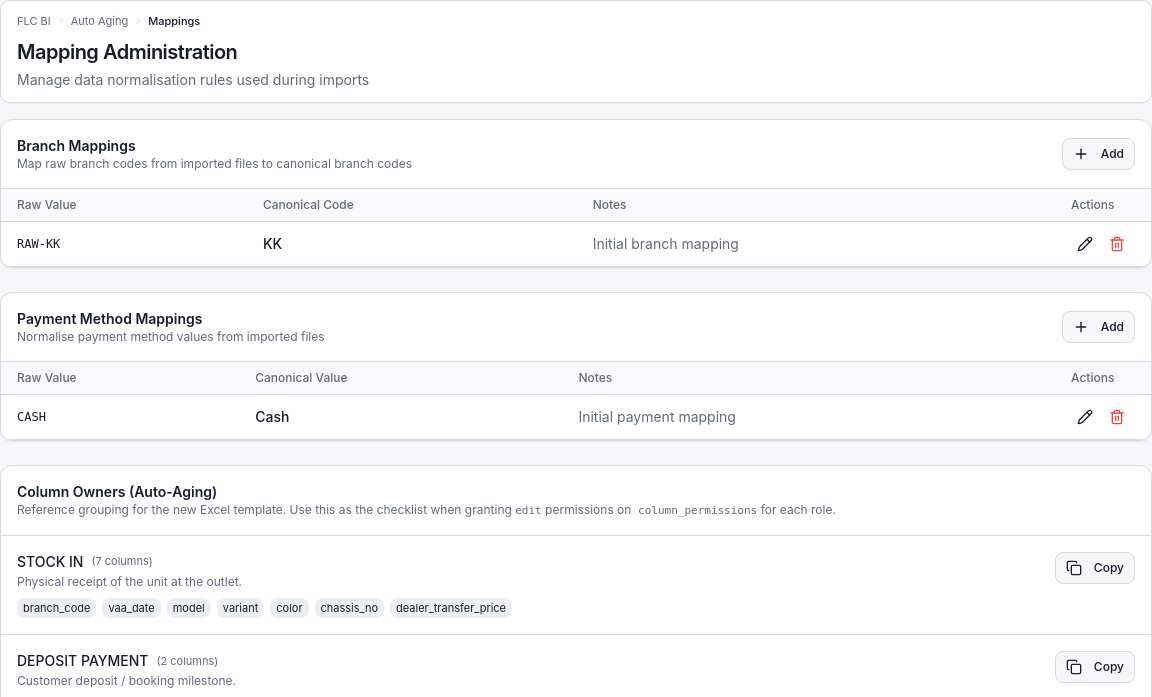
it: MappingAdmin › creates a new branch mapping and reloads the table
Expected: the text "RAW-KK" is shown, top-left (1, 221), bottom-right (247, 266)
Click the button "Add" in the row of "Branch Mappings". click: (1098, 154)
box: top-left (1062, 138), bottom-right (1135, 170)
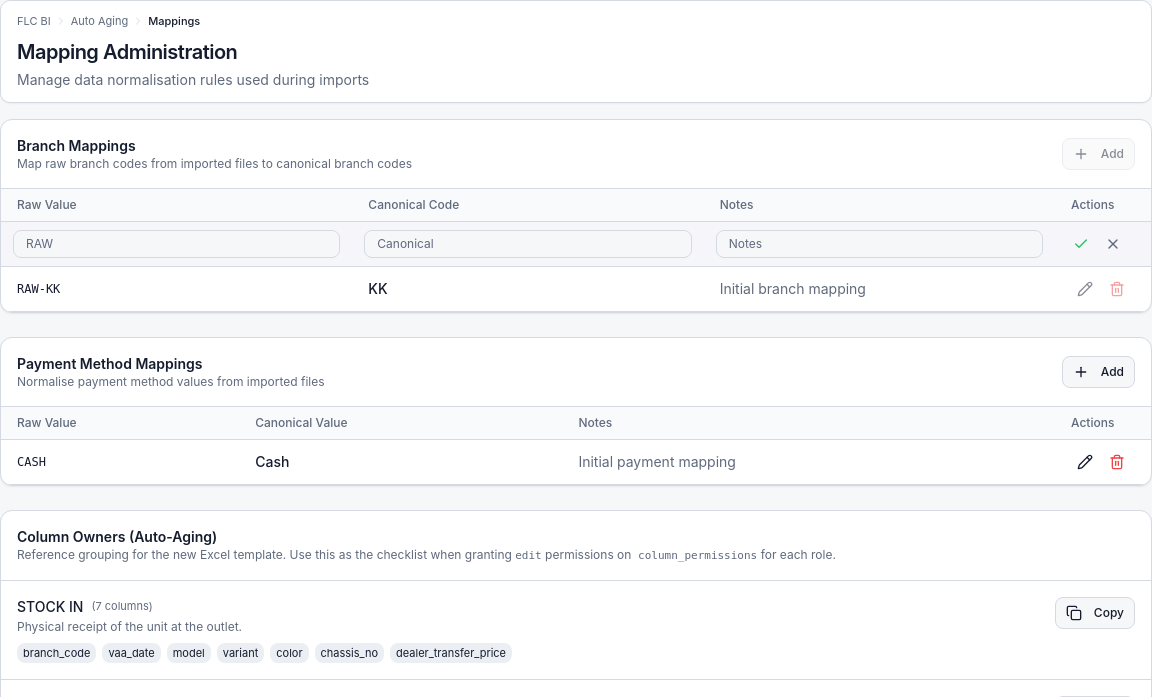
Type "RAW-JB" into the field with placeholder "RAW". click: (177, 244)
box: top-left (13, 230), bottom-right (340, 258)
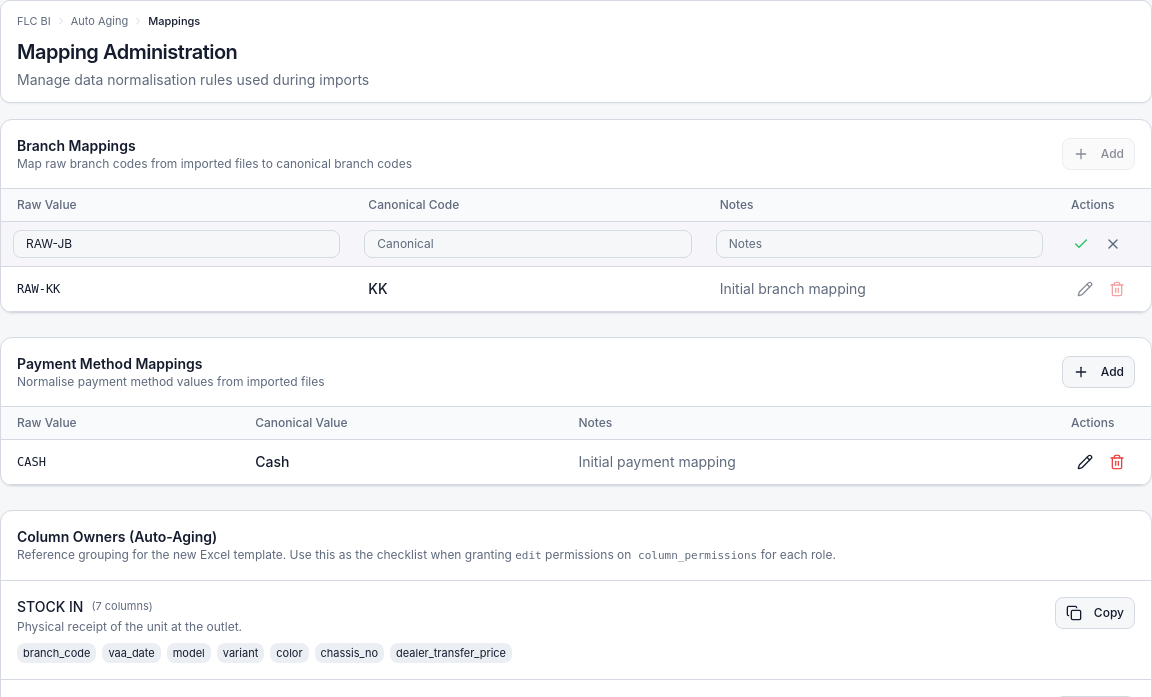
Type "JB" into the field with placeholder "Canonical". click: (528, 244)
box: top-left (364, 230), bottom-right (692, 258)
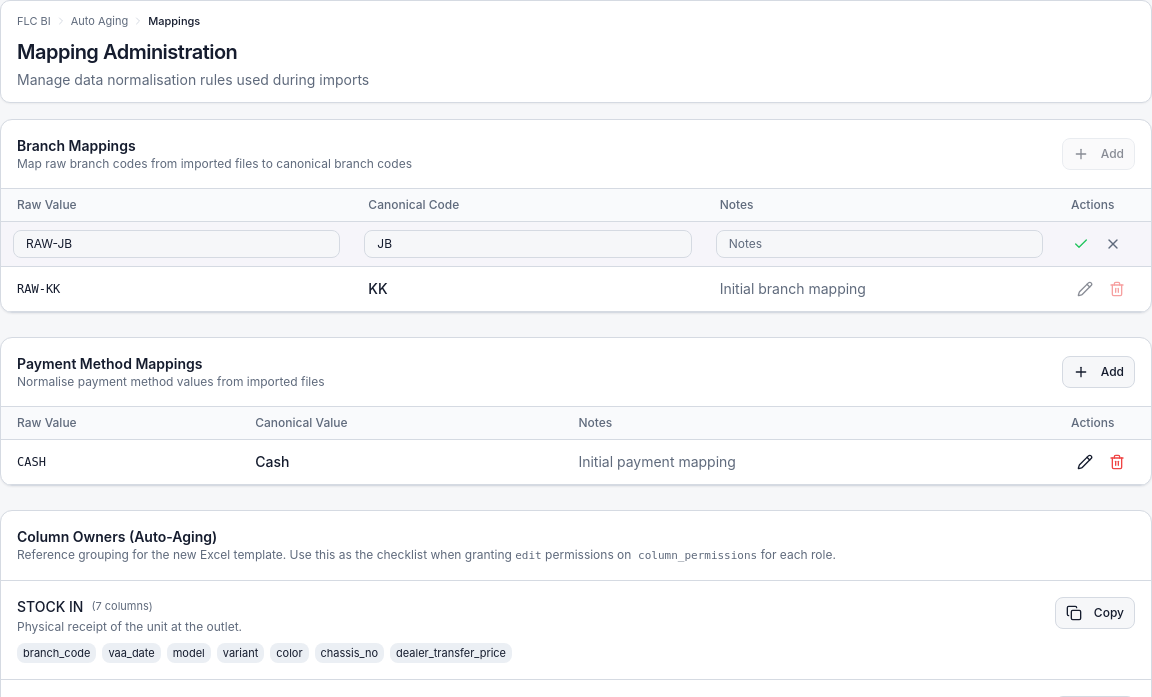
Type "Johor branch" into the field with placeholder "Notes". click: (879, 244)
box: top-left (716, 230), bottom-right (1043, 258)
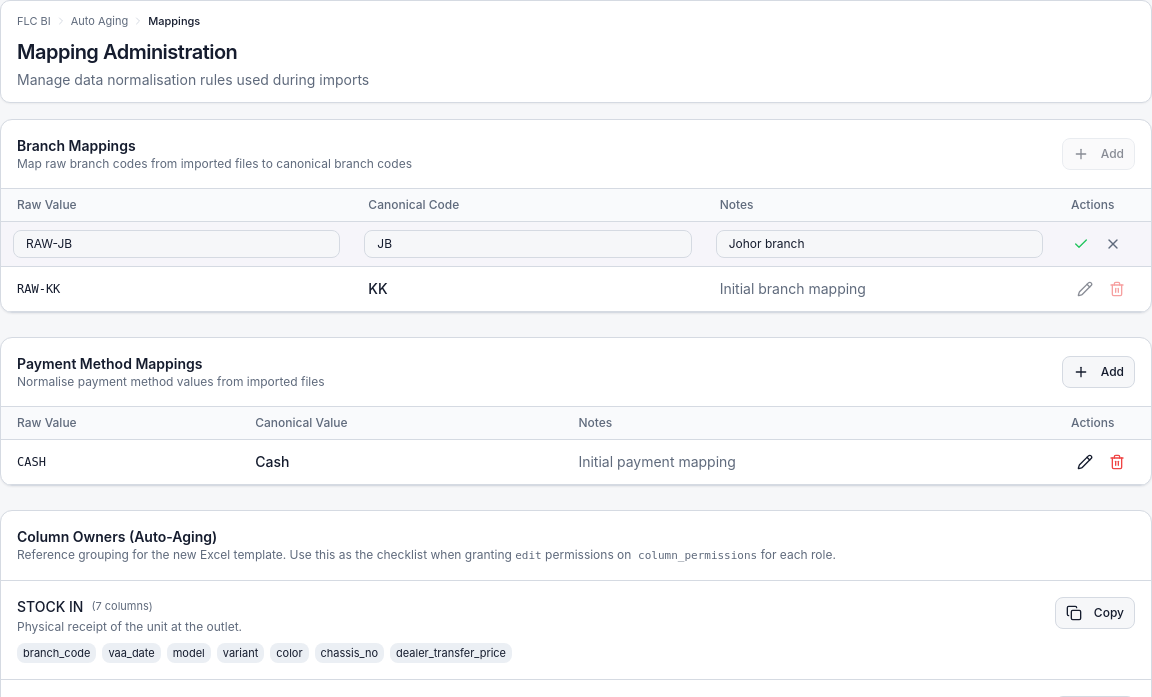
Click the button named "Save mapping". click: (1081, 244)
box: top-left (1067, 230), bottom-right (1095, 258)
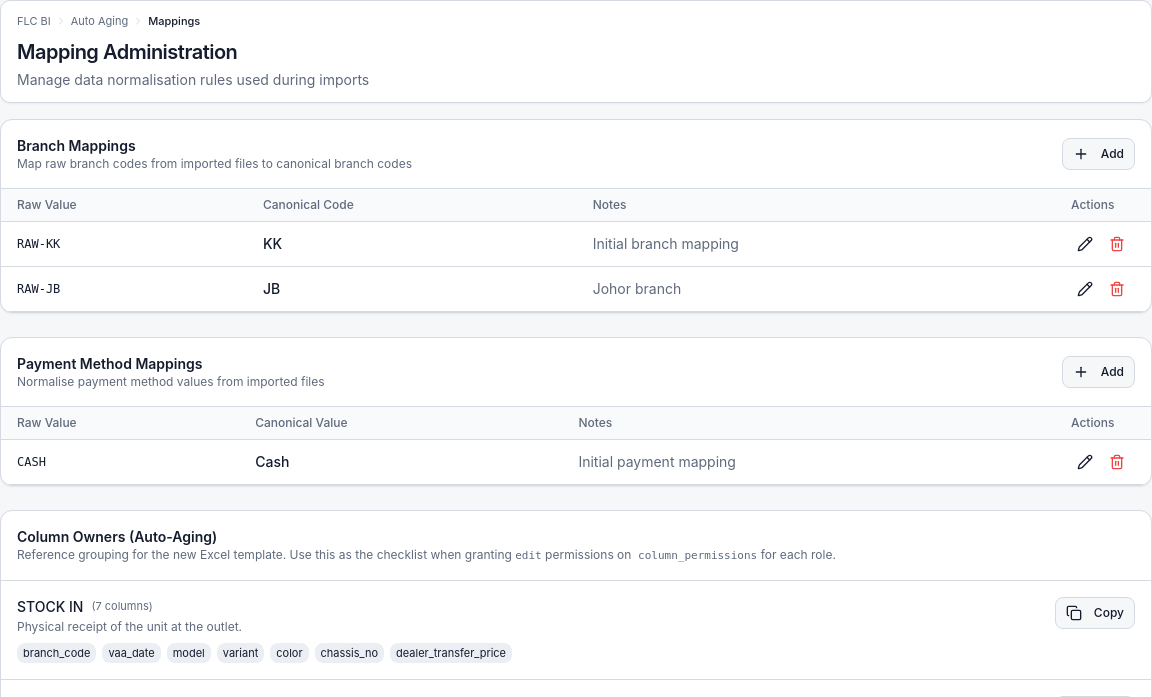
Expected: the text "RAW-JB" is shown, top-left (1, 266), bottom-right (247, 311)
